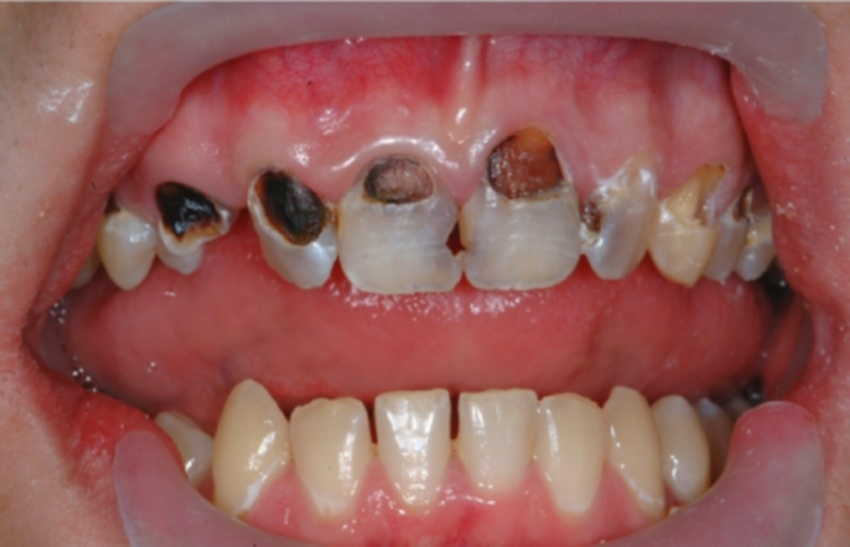karies: (255, 170, 327, 247), (488, 126, 561, 199), (153, 180, 223, 242), (664, 160, 724, 228), (364, 155, 433, 207), (441, 212, 475, 261), (576, 198, 606, 236), (731, 185, 757, 225), (102, 192, 126, 220)
